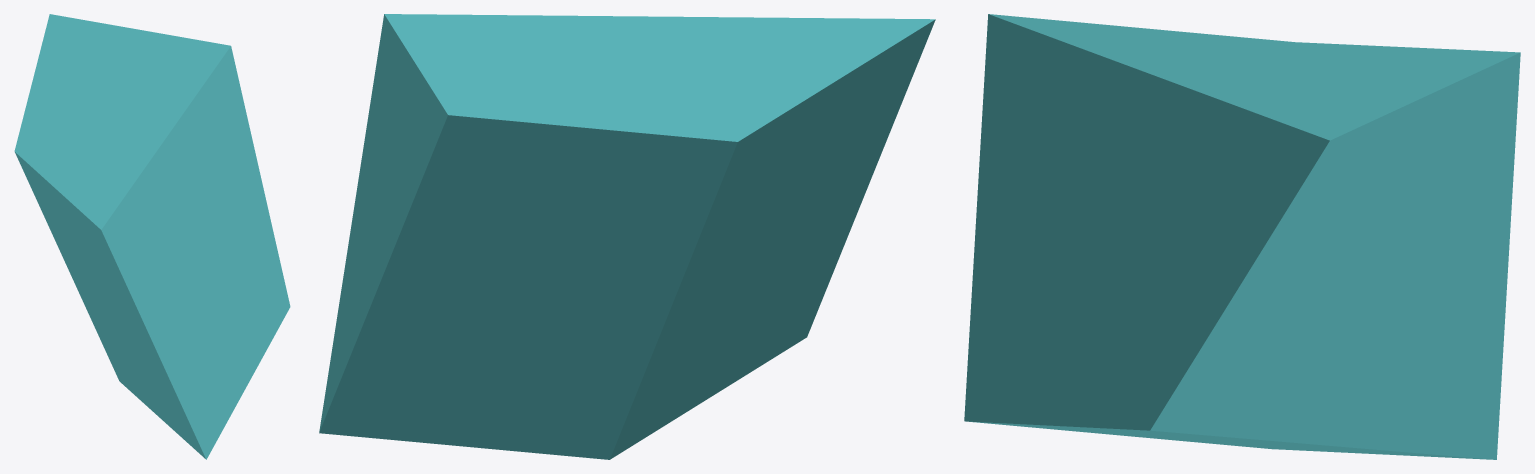
3 renders of one model, left to right at view 1: azimuth 30°, elevation 25°; view 2: azimuth 150°, elevation 25°; view 3: azimuth 270°, elevation 25°, orthographic. The views are drawn at different scales.
Visible parts, largest first — view 1: Cube.026; view 2: Cube.026; view 3: Cube.026.
Part boxes in pixels (x1=…): Cube.026: x1=14, y1=14, x2=290, y2=459; Cube.026: x1=319, y1=14, x2=935, y2=459; Cube.026: x1=964, y1=14, x2=1520, y2=459.
Bounding box in the file's own units: 0.8294 × 0.9276 × 1.14.
